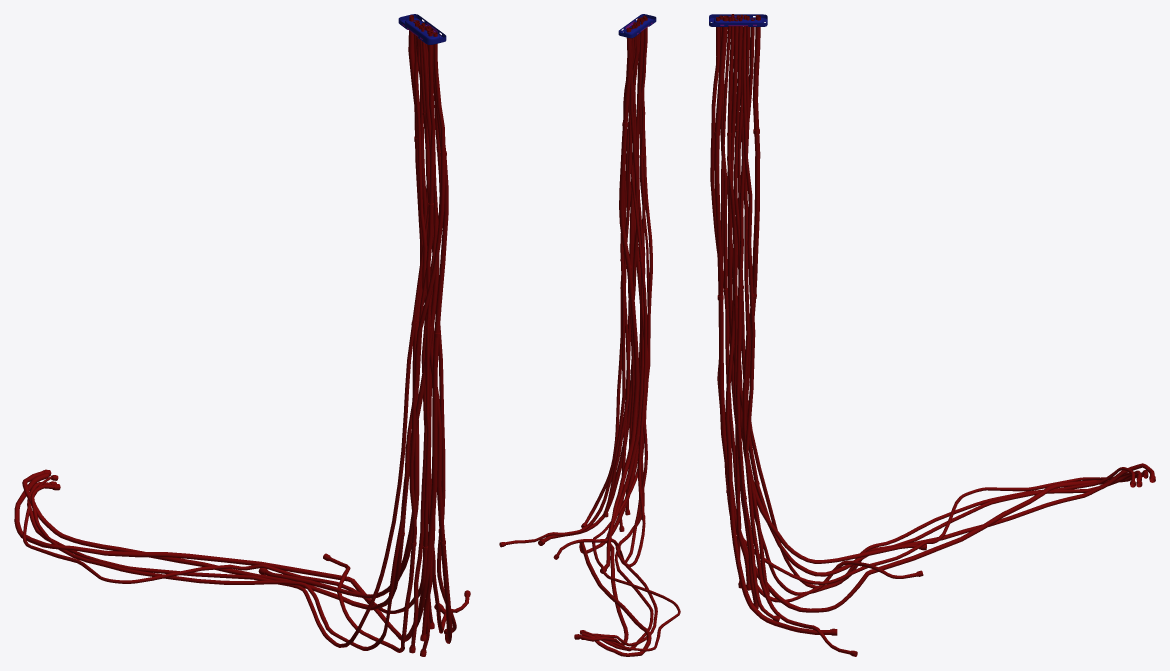
Rendered from Cable_Details_02.fbx.
3 views of the same model, side by side, from view 1: azimuth 30°, elevation 25°; view 2: azimuth 150°, elevation 25°; view 3: azimuth 270°, elevation 25° (orthographic). The views are drawn at different scales.
Parts seen in each view (by area): view 1: Cable_Details_02; view 2: Cable_Details_02; view 3: Cable_Details_02.
Part boxes in pixels (x1,y1,x2,y2): Cable_Details_02: (14,14,470,656); Cable_Details_02: (499,14,680,656); Cable_Details_02: (709,14,1155,656).
Bounding box in the file's own units: 333 × 640 × 438.
